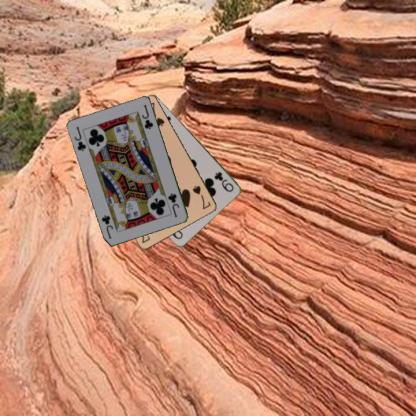7s: (190, 183, 212, 211)
9c: (212, 169, 235, 193)
Jc: (72, 124, 88, 153), (165, 191, 181, 218)
